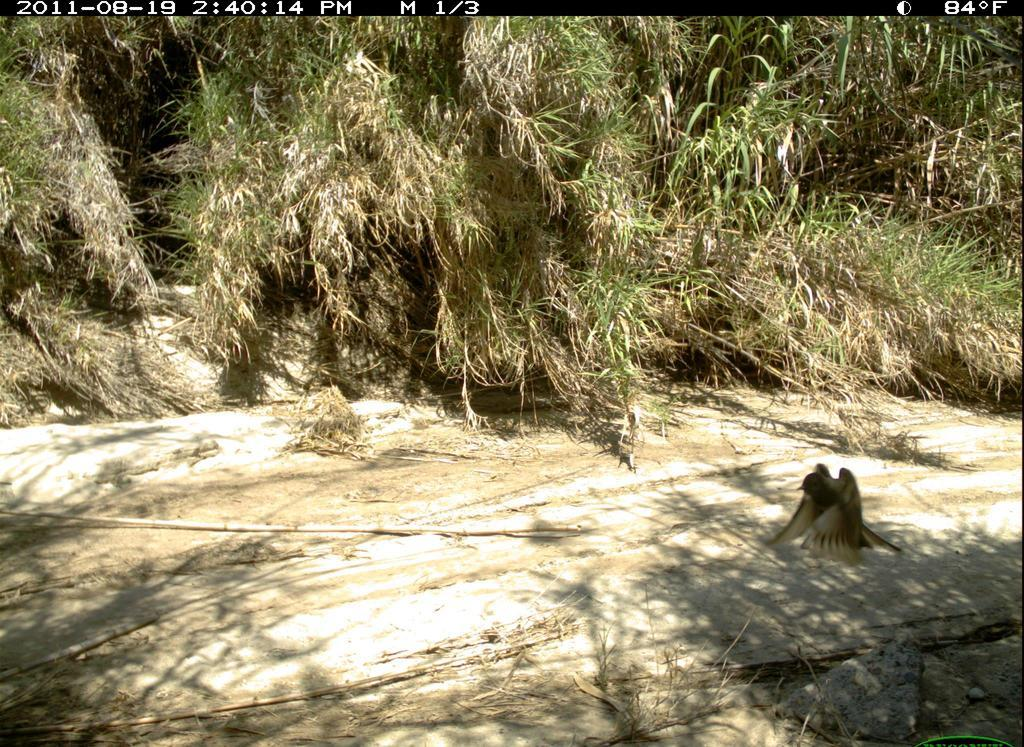bird: (775, 460, 904, 574)
